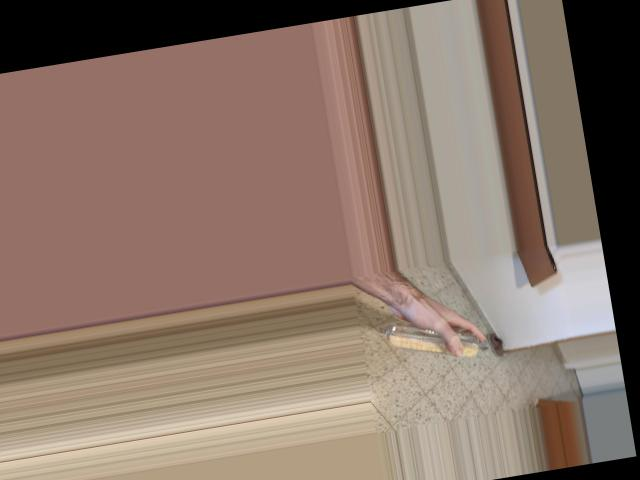cheese: (390, 285, 495, 379)
